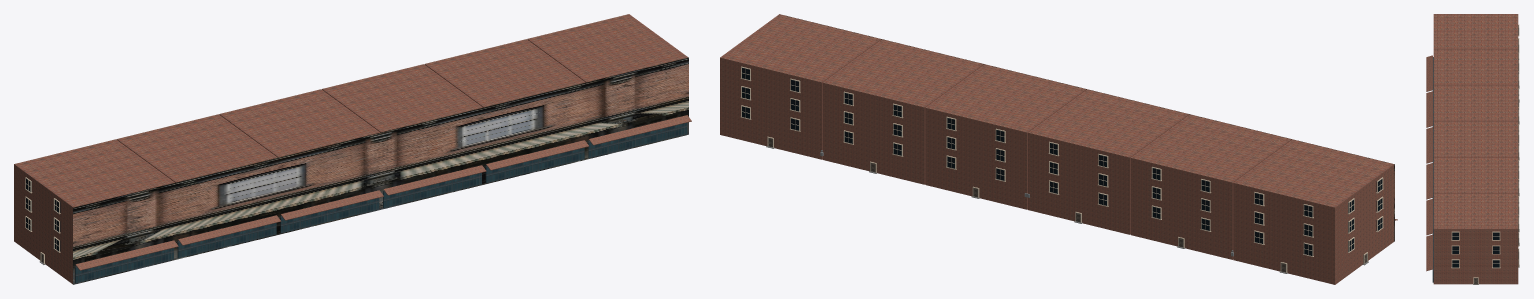
The model's file is woodward-row_lod0.gltf.
3 renders of one model, left to right at view 1: azimuth 30°, elevation 25°; view 2: azimuth 150°, elevation 25°; view 3: azimuth 270°, elevation 25°, orthographic. The views are drawn at different scales.
Parts seen in each view (by area): view 1: woodward-row_front, woodward-row_unit0, woodward-row_unit4, woodward-row_unit2, woodward-row_unit5, woodward-row_unit1, woodward-row_unit3, woodward-row__storefront1, woodward-row__storefront5, woodward-row__storefront4, woodward-row__storefront2, woodward-row__storefront3 (+8 smaller); view 2: woodward-row_unit0, woodward-row_unit1, woodward-row_unit4, woodward-row_unit3, woodward-row_unit2, woodward-row_unit5, woodward-row_fen_07-glass-curtain-blue_5_t, woodward-row_fen_04-limestone_0; view 3: woodward-row_unit5, woodward-row_unit3, woodward-row_unit4, woodward-row_unit0, woodward-row_unit1, woodward-row_unit2, woodward-row_fen_04-limestone_0, woodward-row_fen_07-glass-curtain-blue_5_t, woodward-row__awning0, woodward-row__awning2, woodward-row__awning4, woodward-row__awning5 (+2 smaller).
Boxes of the visible parts, x1=… form: woodward-row_front: x1=73, y1=57, x2=688, y2=284; woodward-row_unit0: x1=14, y1=139, x2=174, y2=284; woodward-row_unit4: x1=424, y1=39, x2=585, y2=107; woodward-row_unit2: x1=219, y1=89, x2=379, y2=157; woodward-row_unit5: x1=527, y1=14, x2=687, y2=82; woodward-row_unit1: x1=116, y1=114, x2=277, y2=182; woodward-row_unit3: x1=322, y1=64, x2=482, y2=132; woodward-row__storefront1: x1=177, y1=223, x2=276, y2=258; woodward-row__storefront5: x1=588, y1=123, x2=687, y2=157; woodward-row__storefront4: x1=485, y1=147, x2=584, y2=183; woodward-row__storefront2: x1=280, y1=198, x2=379, y2=233; woodward-row__storefront3: x1=383, y1=173, x2=481, y2=208; woodward-row_unit0: x1=1233, y1=139, x2=1394, y2=284; woodward-row_unit1: x1=1130, y1=114, x2=1291, y2=259; woodward-row_unit4: x1=822, y1=39, x2=983, y2=184; woodward-row_unit3: x1=925, y1=64, x2=1086, y2=209; woodward-row_unit2: x1=1028, y1=89, x2=1188, y2=234; woodward-row_unit5: x1=720, y1=14, x2=880, y2=159; woodward-row_fen_07-glass-curtain-blue_5_t: x1=742, y1=68, x2=1382, y2=255; woodward-row_fen_04-limestone_0: x1=740, y1=66, x2=1383, y2=272; woodward-row_unit5: x1=1433, y1=193, x2=1518, y2=284; woodward-row_unit3: x1=1433, y1=121, x2=1518, y2=157; woodward-row_unit4: x1=1433, y1=157, x2=1518, y2=193; woodward-row_unit0: x1=1433, y1=14, x2=1518, y2=49; woodward-row_unit1: x1=1433, y1=50, x2=1518, y2=85; woodward-row_unit2: x1=1433, y1=86, x2=1518, y2=121; woodward-row_fen_04-limestone_0: x1=1451, y1=24, x2=1519, y2=284; woodward-row_fen_07-glass-curtain-blue_5_t: x1=1452, y1=25, x2=1518, y2=267; woodward-row__awning0: x1=1426, y1=55, x2=1432, y2=91; woodward-row__awning2: x1=1426, y1=127, x2=1432, y2=163; woodward-row__awning4: x1=1426, y1=199, x2=1432, y2=235; woodward-row__awning5: x1=1426, y1=234, x2=1432, y2=271.
Bounding box in the file's own units: 151 × 18.02 × 27.57.
